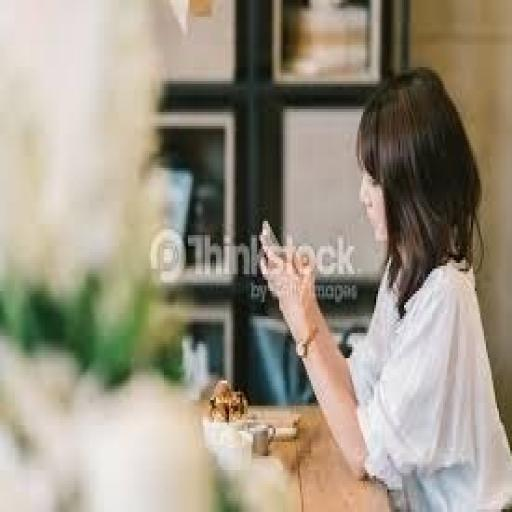texting: (255, 64, 510, 510)
